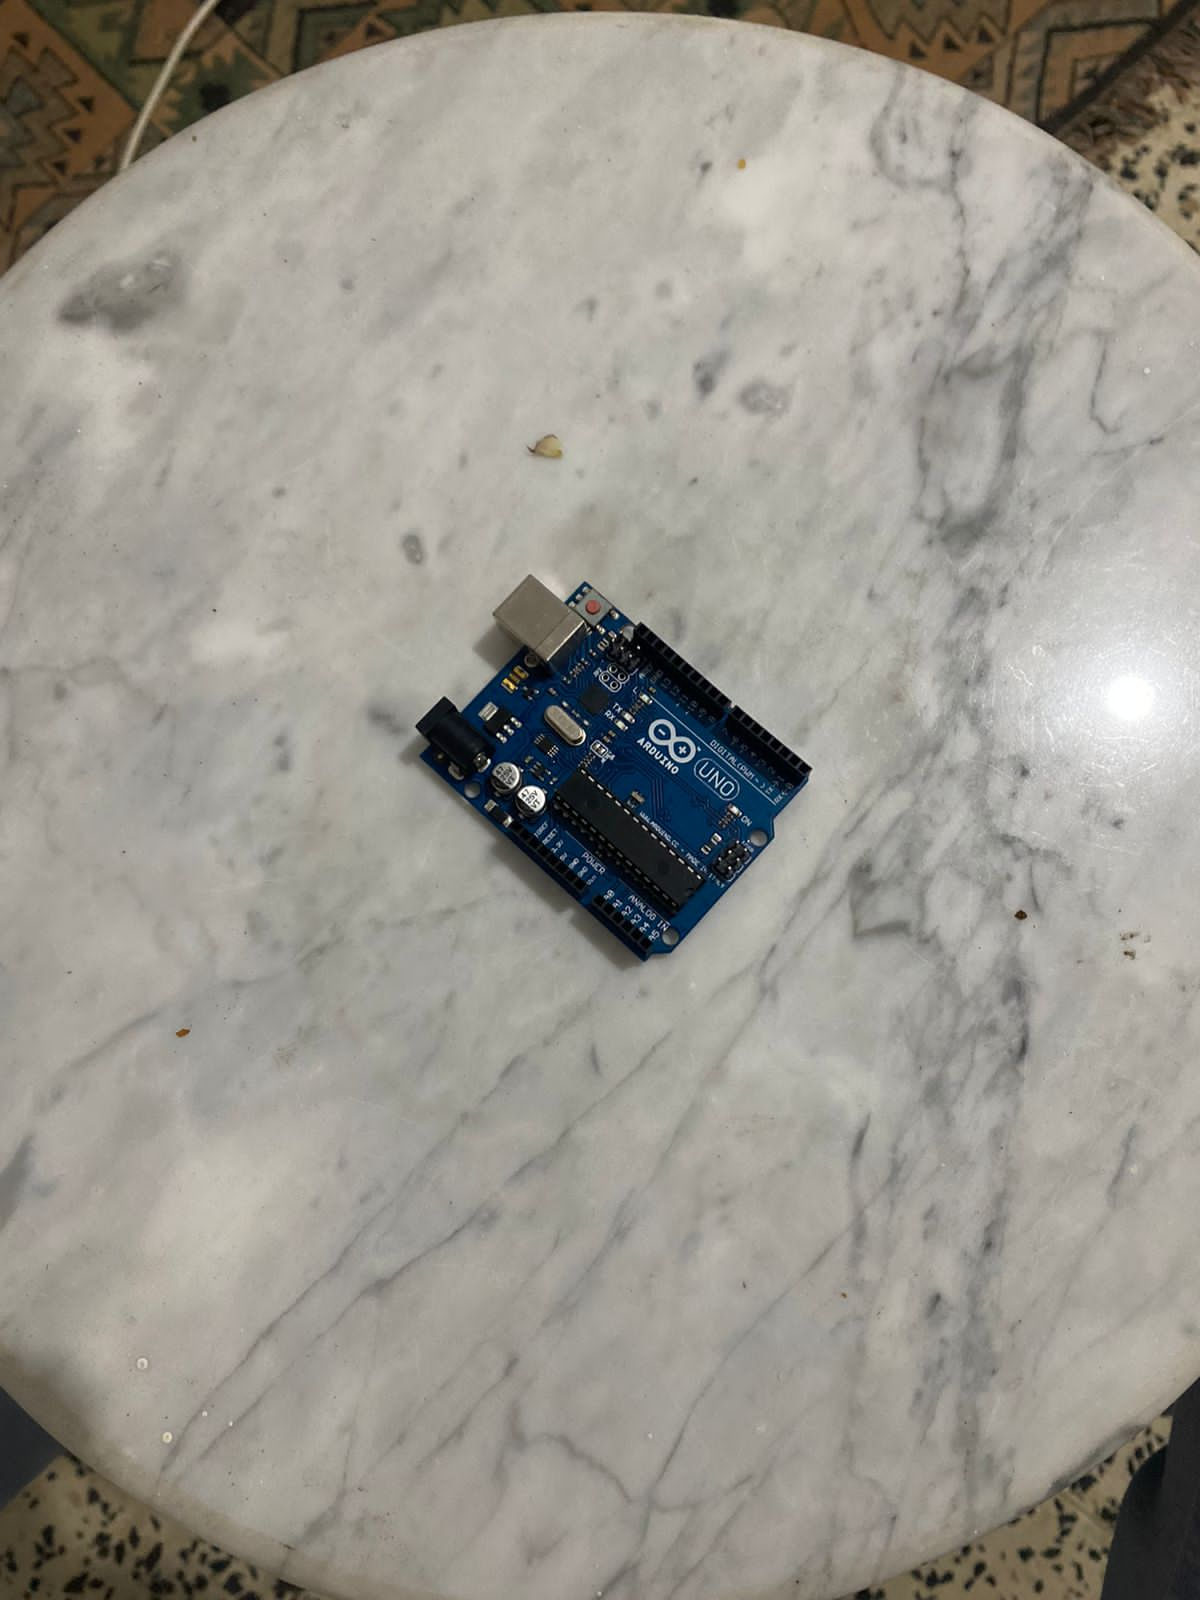arduino-uno: (411, 559, 819, 974)
